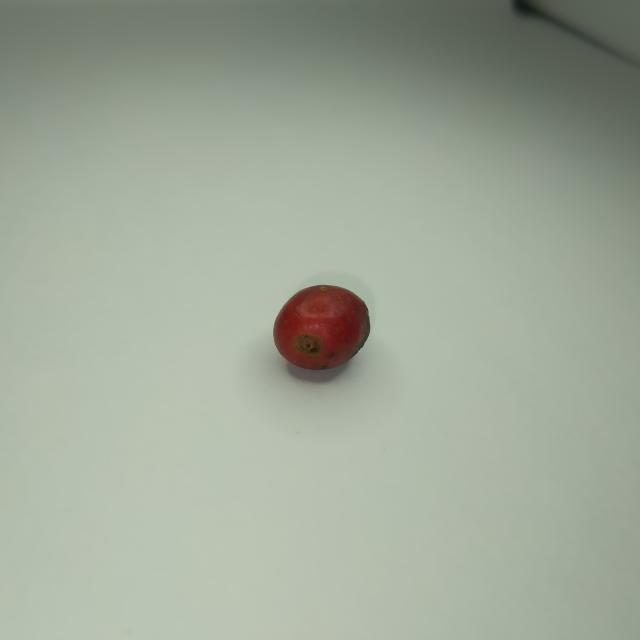Infectado: (273, 285, 370, 374)
